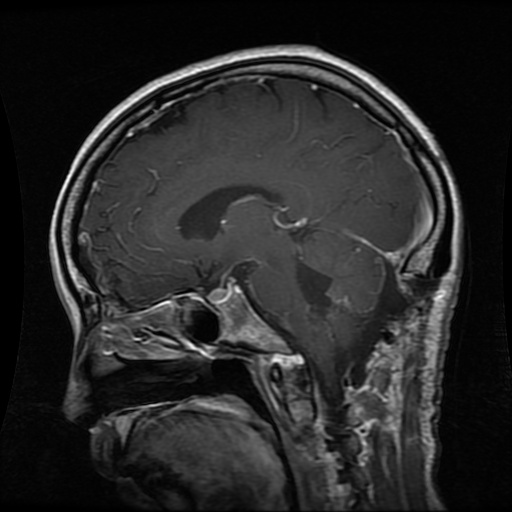glioma: (296, 259, 334, 322)
